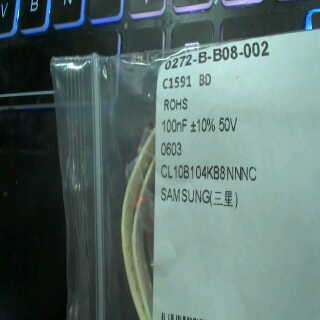100nF: (157, 113, 190, 139)
